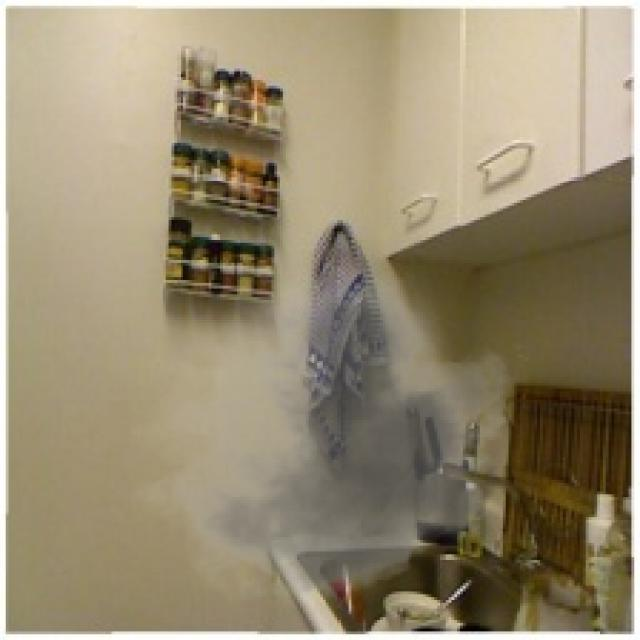smoke: (128, 263, 528, 620)
